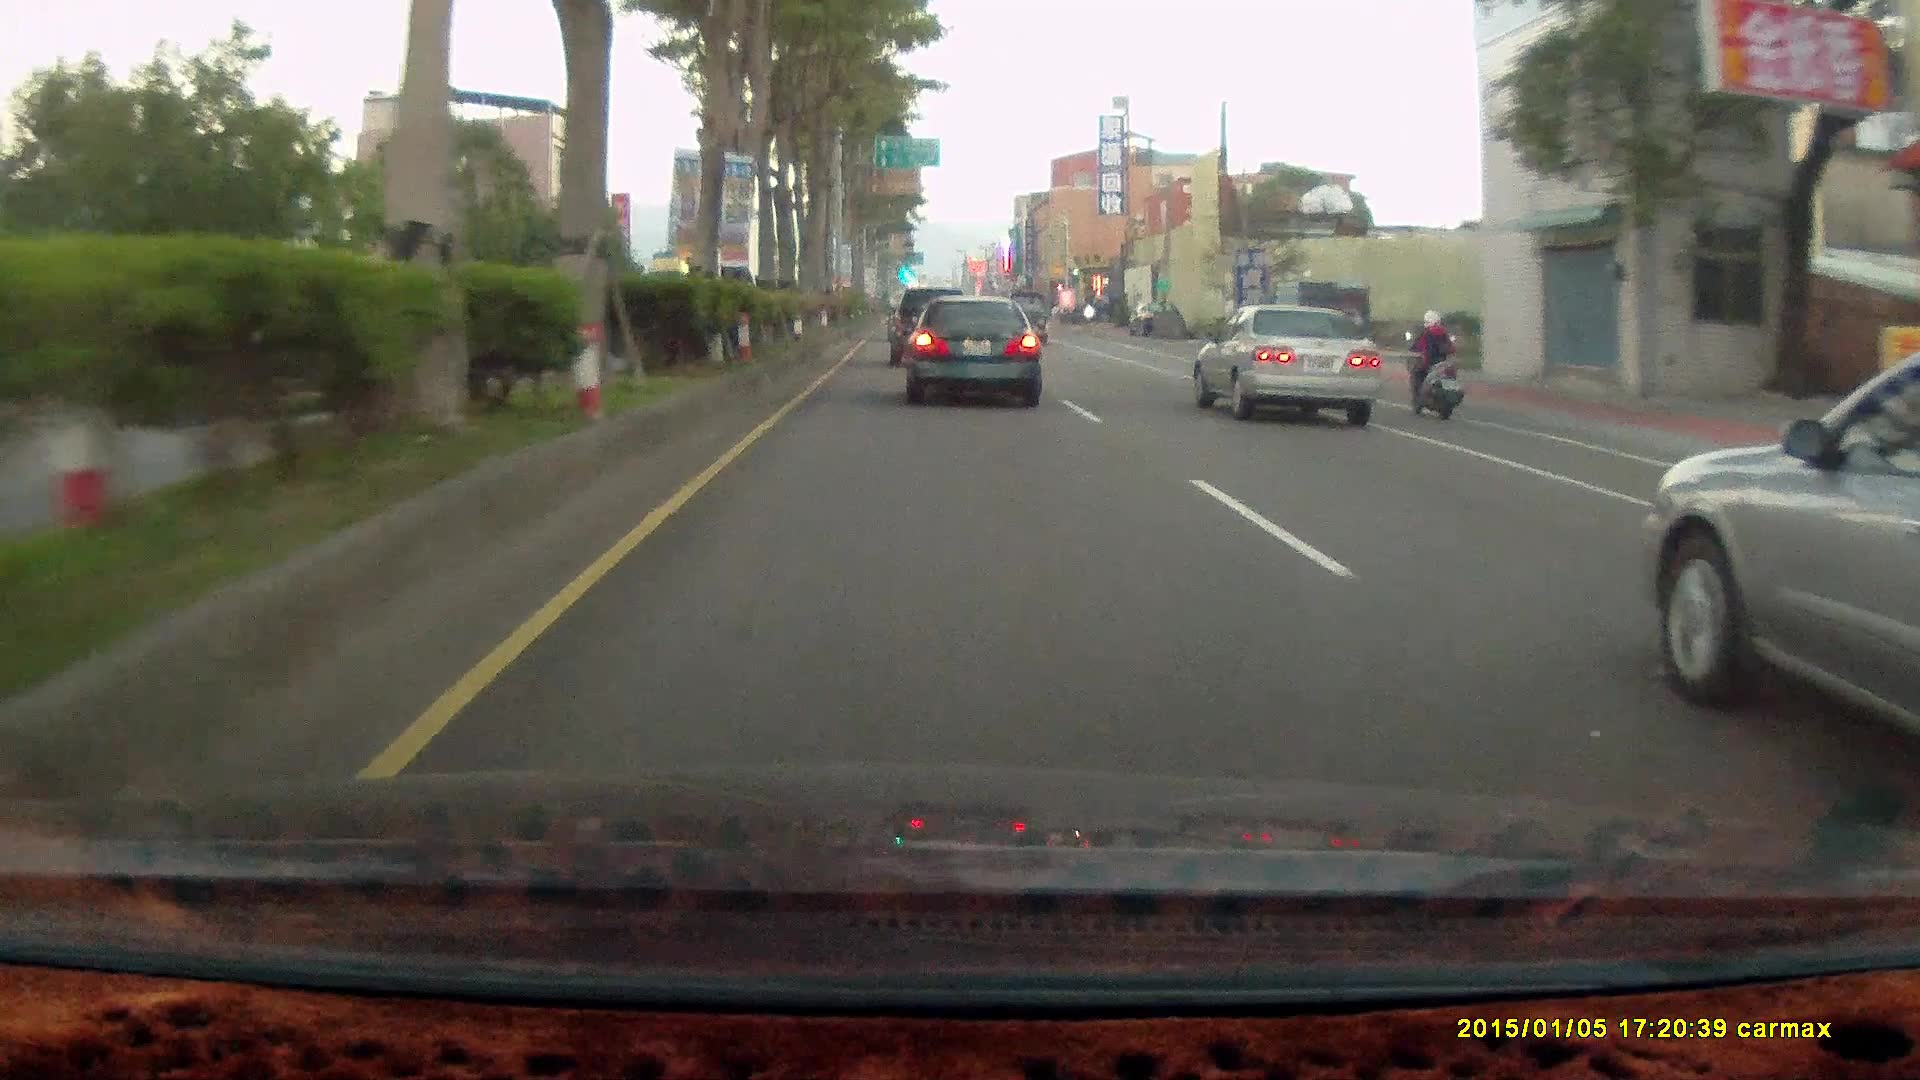rider: (1392, 297, 1473, 428), (1400, 300, 1465, 414)
vehicle: (1647, 352, 1920, 770), (1189, 300, 1380, 423), (1199, 302, 1385, 424), (902, 293, 1042, 405), (901, 291, 1040, 400), (1267, 278, 1372, 366), (888, 282, 971, 366), (889, 287, 970, 369), (1003, 287, 1049, 340), (1083, 287, 1140, 322)
